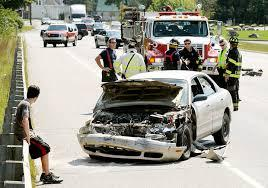Bonnet: (87, 108, 184, 126)
Bumper: (82, 125, 185, 158)
Fender: (178, 113, 198, 144)
